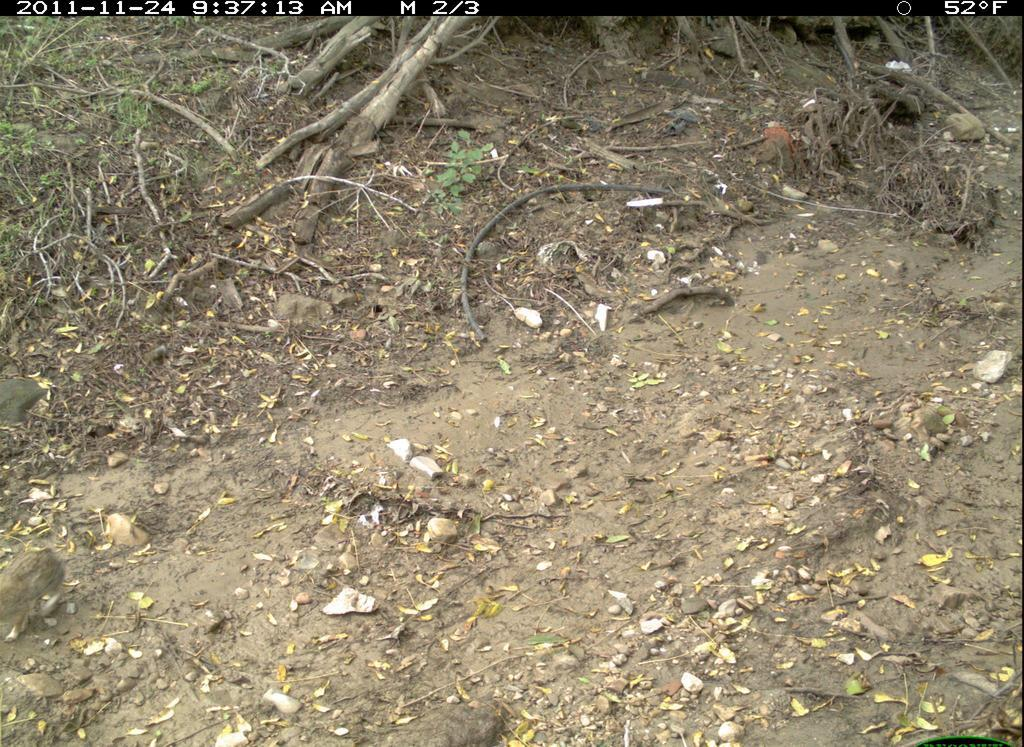rabbit: (1, 534, 76, 649)
